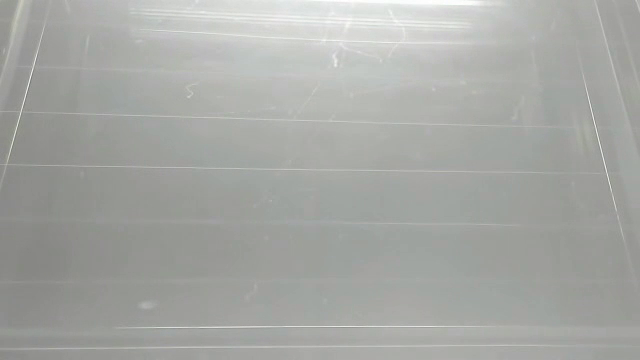alpha: (134, 297, 161, 314)
